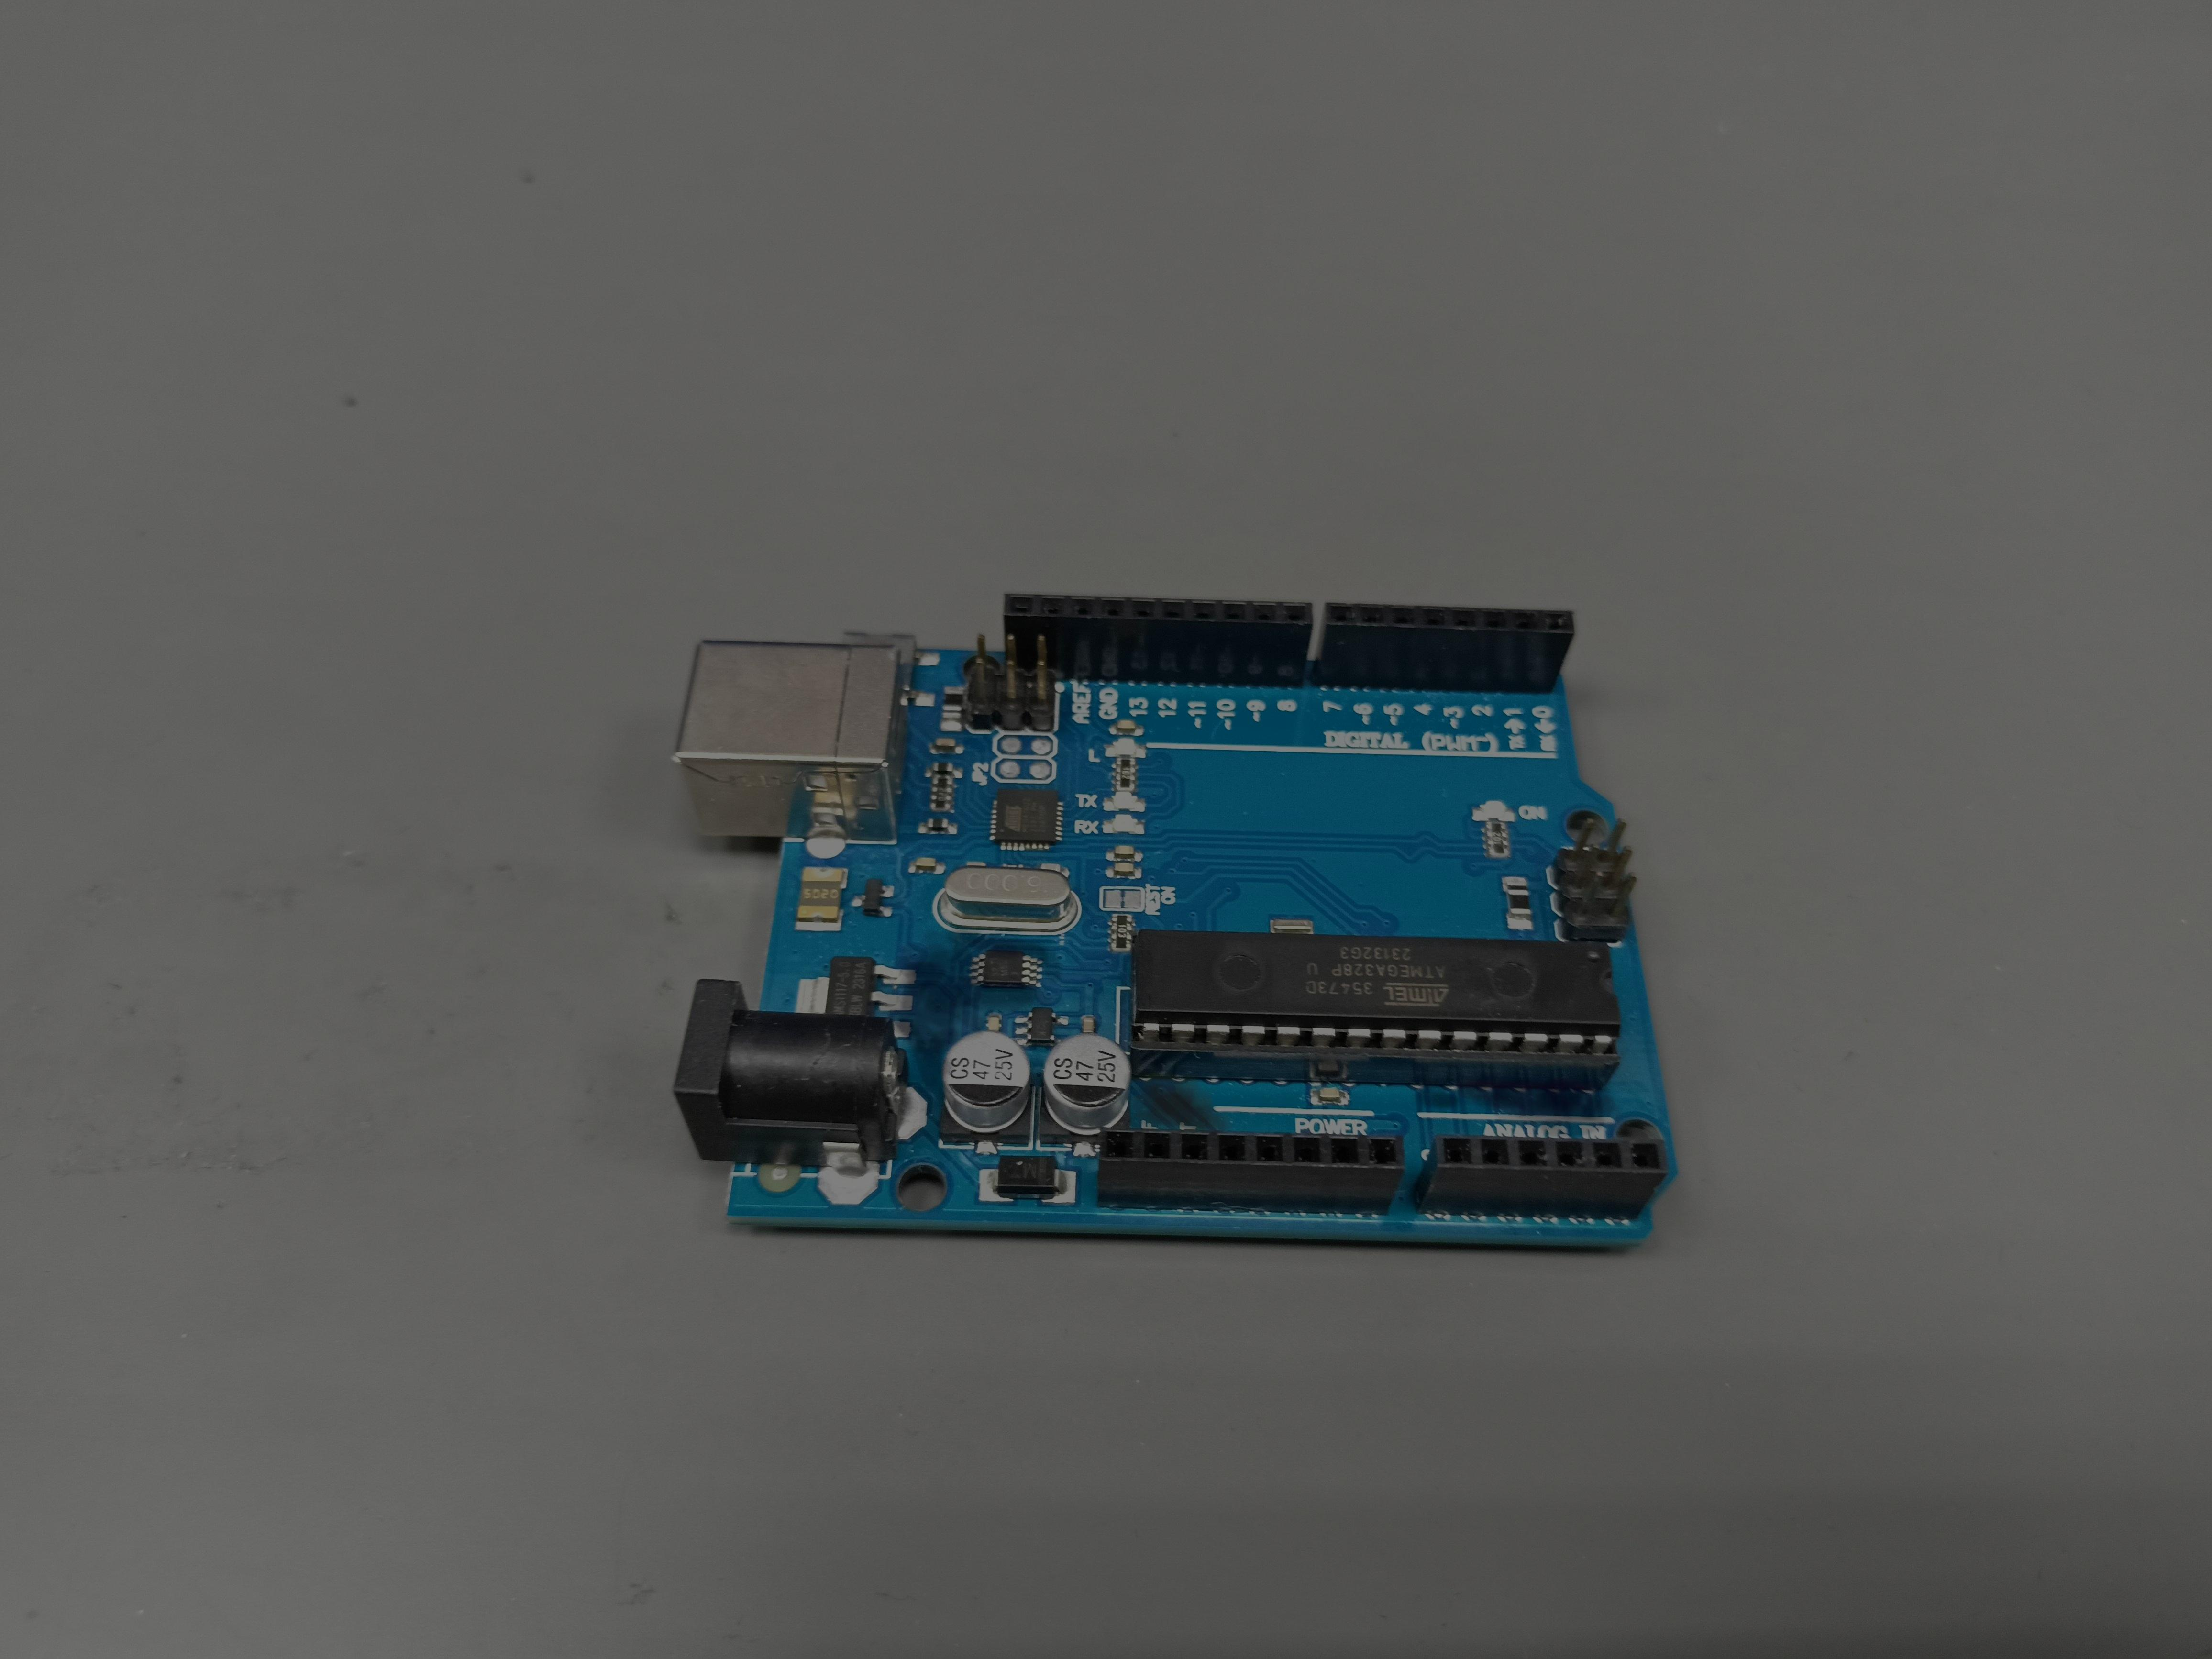ATmega328 chip: (1130, 929, 1622, 1089)
Arduino board: (672, 594, 1679, 1248)
Overheat: (892, 932, 1066, 1122), (1414, 1073, 1615, 1136), (1130, 1070, 1230, 1131)
USB: (672, 640, 907, 840)
capacitor: (941, 1032, 1033, 1143), (1040, 1033, 1130, 1145)
pins: (1003, 592, 1313, 687), (1097, 1127, 1406, 1215), (1312, 603, 1575, 694), (1416, 1134, 1669, 1220)
resistor: (930, 774, 954, 812), (1109, 913, 1132, 951), (1486, 823, 1510, 857), (1115, 758, 1136, 793)
